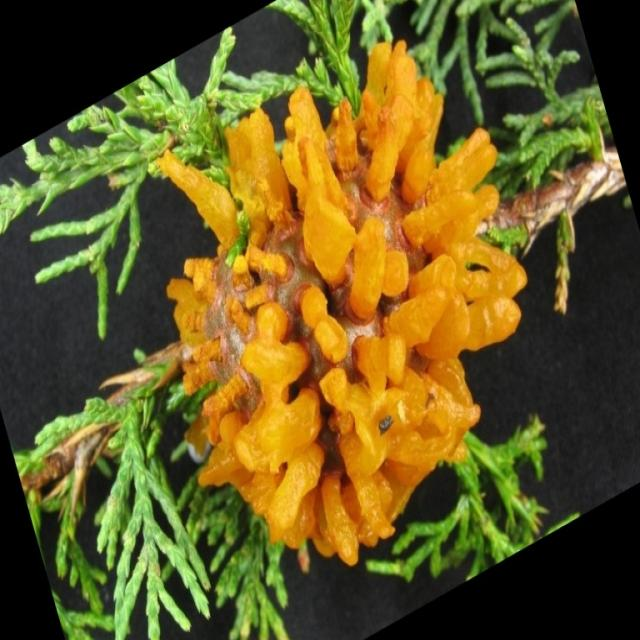Gymnosporangium_Rusts: (153, 36, 528, 568)
